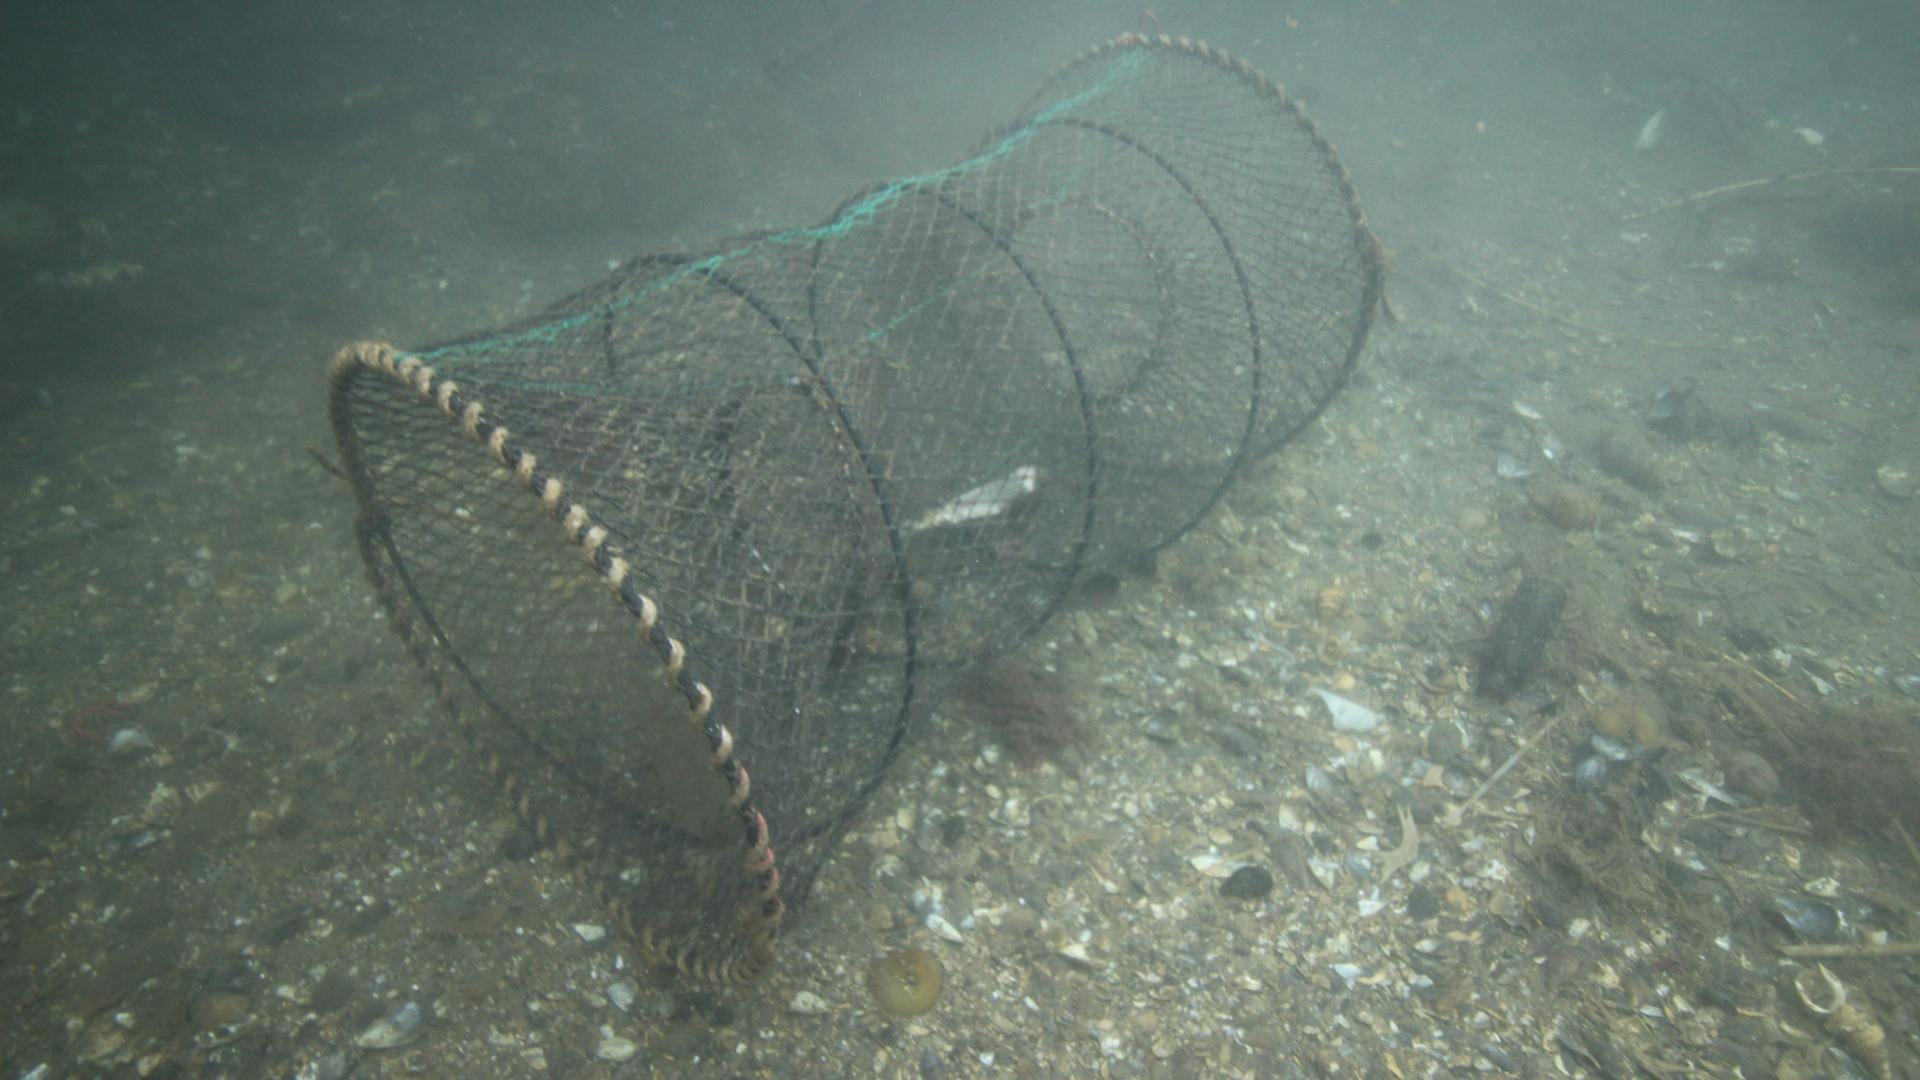spring fish trap: (324, 33, 1377, 982)
